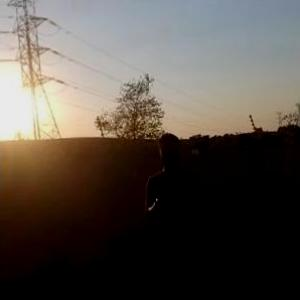follow: (141, 130, 210, 299)
